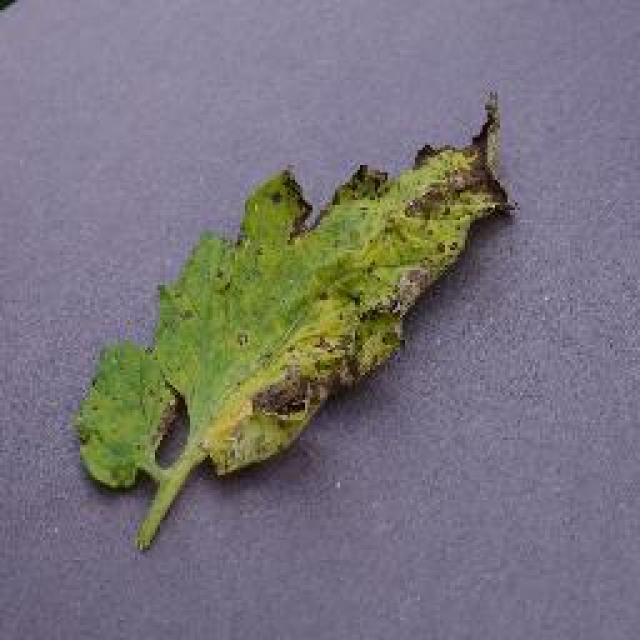Tomato target spot leaf: (74, 92, 524, 498)
